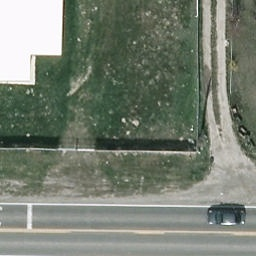car: (206, 205, 250, 226)
